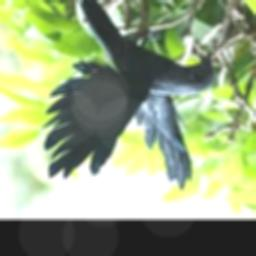Crow: (43, 0, 215, 192)
